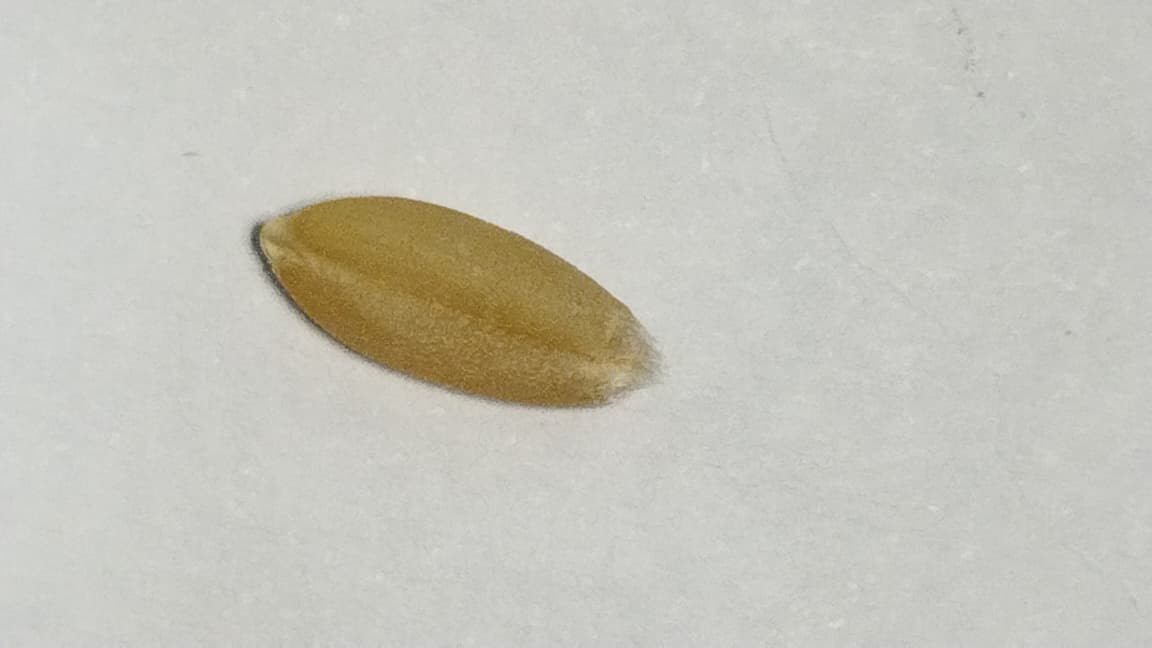healthy: (260, 197, 653, 405)
